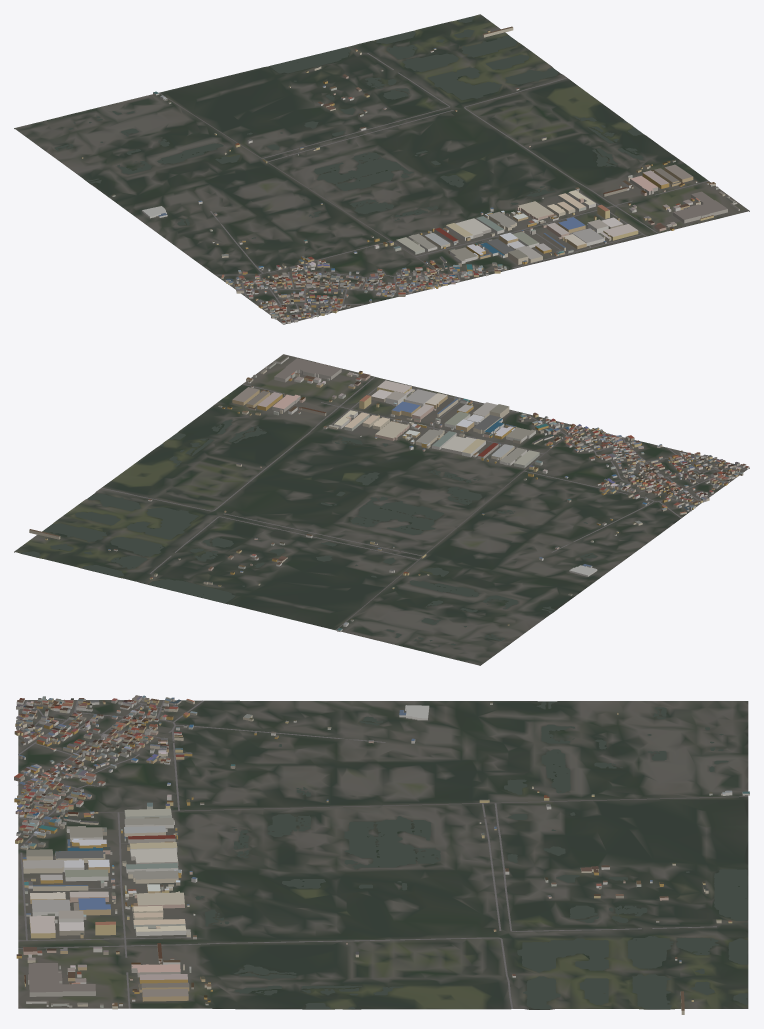
The picture shows the model from 3 angles, top to bottom: view 1: azimuth 30°, elevation 25°; view 2: azimuth 150°, elevation 25°; view 3: azimuth 270°, elevation 25°; orthographic projection. The views are drawn at different scales.
Parts seen in each view (by area): view 1: ground, buildings, water, roads; view 2: ground, buildings, water, roads; view 3: ground, buildings, water, roads.
Boxes of the visible parts, box(x1,y1,x2,y2) form: ground: box(14, 14, 749, 324); buildings: box(81, 26, 739, 324); water: box(54, 16, 643, 238); roads: box(158, 53, 708, 322); ground: box(14, 354, 749, 665); buildings: box(29, 356, 749, 631); water: box(21, 420, 597, 646); roads: box(101, 376, 746, 630); ground: box(18, 700, 748, 1009); buildings: box(14, 695, 749, 1014); water: box(195, 701, 747, 1009); roads: box(18, 699, 748, 1008).
Size of the model in its own units: 1435 by 26.43 by 1413.
